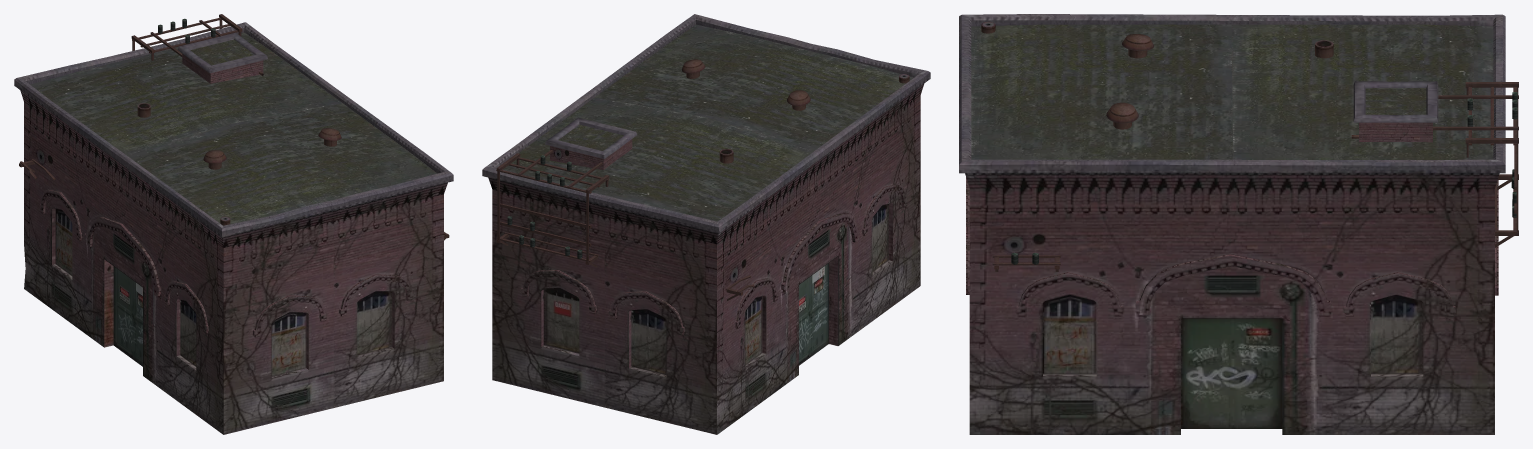
File: brick-substation.lod0.glb
The picture shows the model from 3 angles, left to right: view 1: azimuth 30°, elevation 25°; view 2: azimuth 150°, elevation 25°; view 3: azimuth 270°, elevation 25°; orthographic projection. The views are drawn at different scales.
Visible parts, largest first — view 1: BrickSubstation00__0; view 2: BrickSubstation00__0; view 3: BrickSubstation00__0.
Boxes of the visible parts, bbox=[...] form: BrickSubstation00__0: bbox=[14, 14, 453, 434]; BrickSubstation00__0: bbox=[482, 14, 930, 434]; BrickSubstation00__0: bbox=[959, 14, 1518, 434].
Bounding box in the file's own units: 7.1 × 6.16 × 10.5.
1 material, 1 textured.
